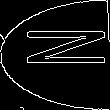N_E: (5, 35, 105, 75)
